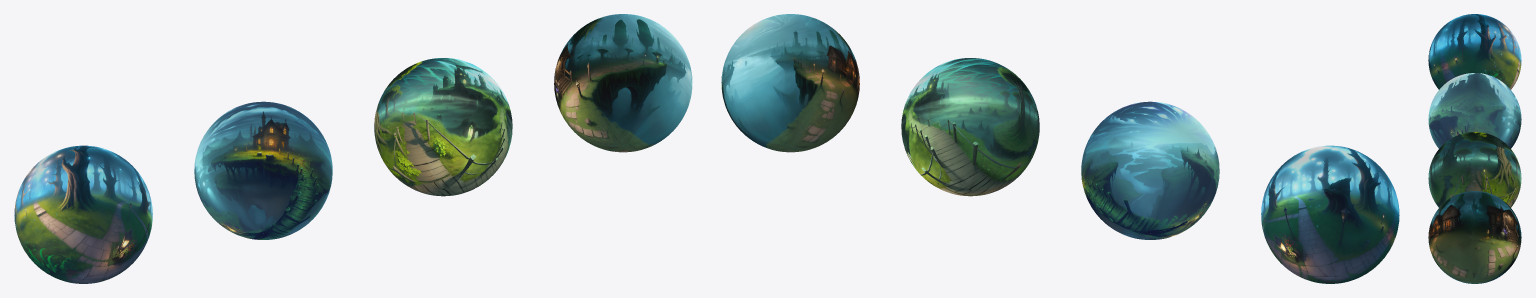
The model's file is skybox.glb.
3 renders of one model, left to right at view 1: azimuth 30°, elevation 25°; view 2: azimuth 150°, elevation 25°; view 3: azimuth 270°, elevation 25°, orthographic. The views are drawn at different scales.
Visible parts, largest first — view 1: Sphere.003, Sphere.004, Sphere.001, Sphere.002; view 2: Sphere.003, Sphere.004, Sphere.001, Sphere.002; view 3: Sphere.004, Sphere.001, Sphere.002, Sphere.003.
Part boxes in pixels (bbox=[...]): Sphere.003: bbox=[14, 145, 152, 283]; Sphere.004: bbox=[554, 14, 692, 152]; Sphere.001: bbox=[374, 58, 512, 196]; Sphere.002: bbox=[194, 101, 332, 239]; Sphere.003: bbox=[1261, 145, 1399, 283]; Sphere.004: bbox=[721, 14, 859, 152]; Sphere.001: bbox=[901, 58, 1039, 196]; Sphere.002: bbox=[1081, 101, 1219, 239]; Sphere.004: bbox=[1428, 191, 1521, 283]; Sphere.001: bbox=[1428, 132, 1521, 207]; Sphere.002: bbox=[1428, 73, 1521, 148]; Sphere.003: bbox=[1428, 14, 1521, 89].
Size of the model in its own units: 550 by 100 by 100.
Materials: 4 (4 with a texture image).
